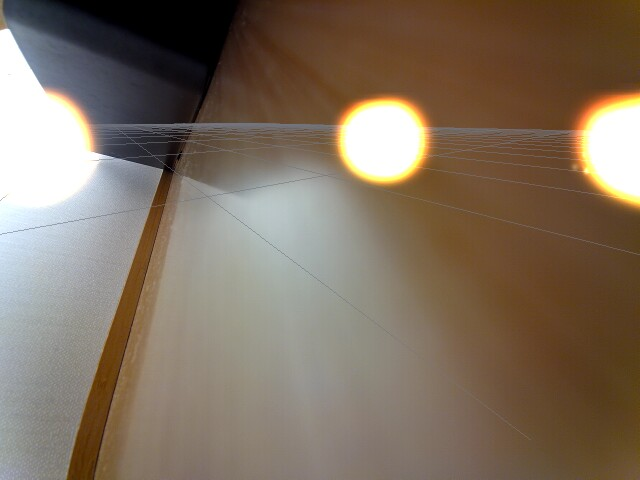fire: (0, 92, 100, 211), (337, 94, 431, 191), (575, 87, 639, 207)
